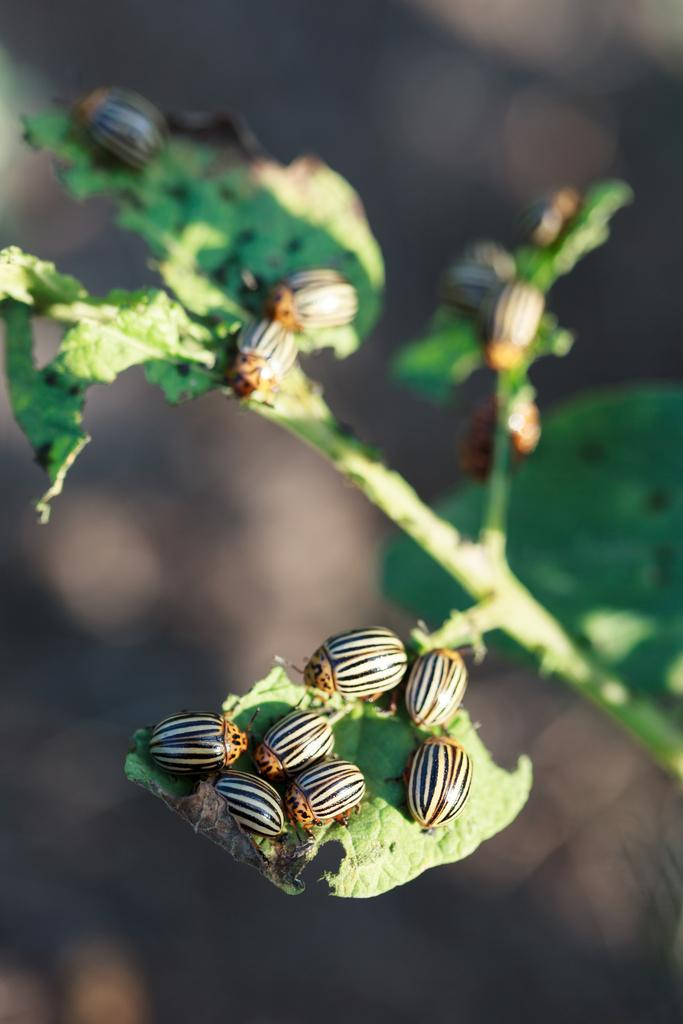potato_beetle: (131, 675, 387, 868), (121, 671, 267, 797), (285, 597, 418, 713), (381, 722, 495, 846)
